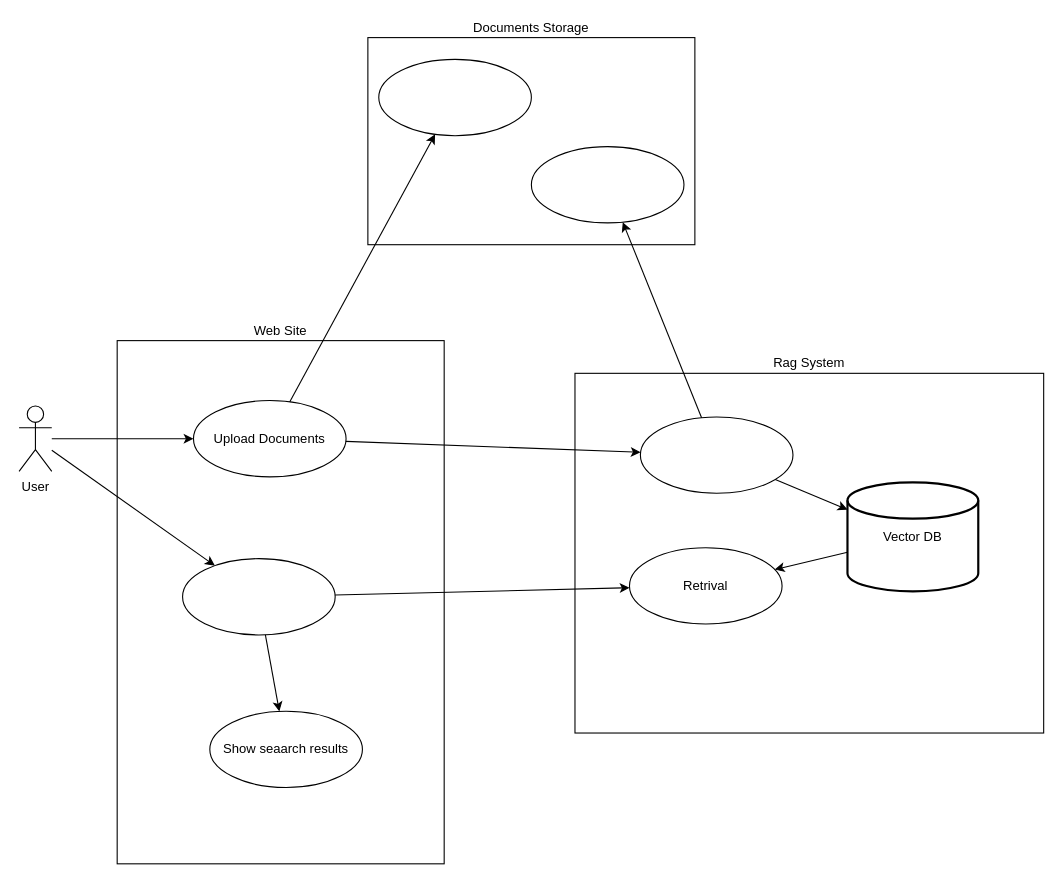
This 1063x883 diagram has some shape labels left out. Each missing label, with the centre of its shape:
"Ingestion" goes at point (716, 454).
"Make searches" goes at point (258, 596).
"Read Documents" goes at point (607, 184).
"Save Documents" goes at point (454, 97).
